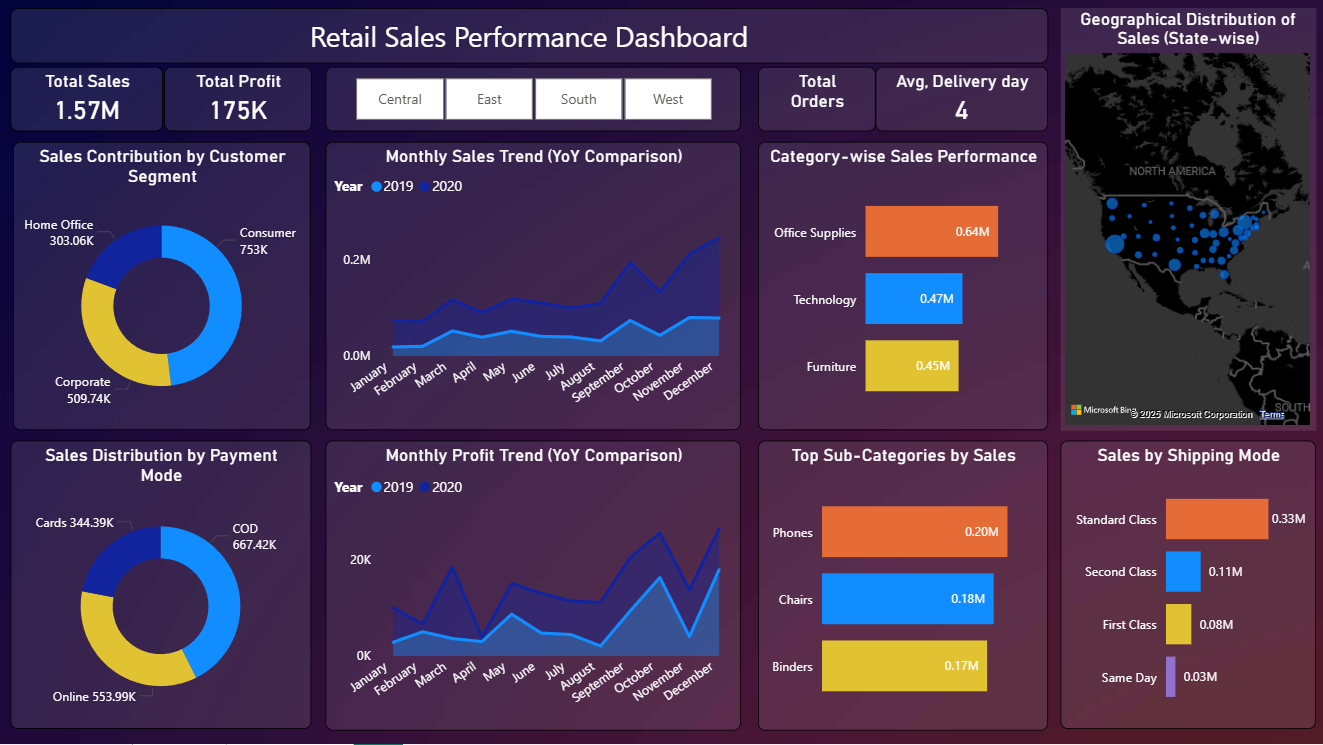

The dashboard page shown, as its layout file describes it:
{"tool":"powerbi","page":{"name":"Sales Performance Overview","canvas":[1280,720],"ordinal":0},"visuals":[{"type":"barChart","title":"Category-wise Sales Performance","fields":{"Category":["SuperStore_Sales_Dataset.Category"],"Y":["Sum(SuperStore_Sales_Dataset.Sales)"]},"box":[733.5,138.7,279.9,278.7],"z":0},{"type":"barChart","title":"Top Sub-Categories by Sales","fields":{"Y":["Sum(SuperStore_Sales_Dataset.Sales)"],"Category":["SuperStore_Sales_Dataset.Sub-Category"]},"box":[733.5,427.1,279.9,279.9],"z":1000},{"type":"barChart","title":"Sales by Shipping Mode","fields":{"Y":["Sum(SuperStore_Sales_Dataset.Sales)"],"Category":["SuperStore_Sales_Dataset.Ship Mode"]},"box":[1025.5,427.1,246.1,278.7],"z":2000},{"type":"stackedAreaChart","title":"Monthly Sales Trend (YoY Comparison)","fields":{"Category":["SuperStore_Sales_Dataset.Order Date.Variation.Date Hierarchy.Month","SuperStore_Sales_Dataset.Order Date.Variation.Date Hierarchy.Day"],"Y":["Sum(SuperStore_Sales_Dataset.Sales)"],"Series":["SuperStore_Sales_Dataset.Order Date.Variation.Date Hierarchy.Year"]},"box":[316.1,138.7,400.5,278.7],"z":3000},{"type":"stackedAreaChart","title":"Monthly Profit Trend (YoY Comparison)","fields":{"Category":["SuperStore_Sales_Dataset.Order Date.Variation.Date Hierarchy.Month","SuperStore_Sales_Dataset.Order Date.Variation.Date Hierarchy.Day"],"Series":["SuperStore_Sales_Dataset.Order Date.Variation.Date Hierarchy.Year"],"Y":["Sum(SuperStore_Sales_Dataset.Profit)"]},"box":[316.1,427.1,400.5,279.9],"z":4000},{"type":"map","title":"Geographical Distribution of Sales (State-wise)","fields":{"Category":["SuperStore_Sales_Dataset.State"],"Size":["Sum(SuperStore_Sales_Dataset.Sales)"]},"box":[1025.5,9.7,246.1,407.8],"z":5000},{"type":"donutChart","title":"Sales Contribution by Customer Segment","fields":{"Category":["SuperStore_Sales_Dataset.Segment"],"Y":["Sum(SuperStore_Sales_Dataset.Sales)"]},"box":[14.5,138.7,287.1,278.7],"z":6000},{"type":"donutChart","title":"Sales Distribution by Payment Mode","fields":{"Y":["Sum(SuperStore_Sales_Dataset.Sales)"],"Category":["SuperStore_Sales_Dataset.Payment Mode"]},"box":[12.5,427.5,290,278.8],"z":7000},{"type":"slicer","fields":{"Values":["SuperStore_Sales_Dataset.Region"]},"box":[316.1,66.4,400.5,62.7],"z":8000},{"type":"textbox","box":[12.5,10,1001.2,53.8],"z":9000},{"type":"card","title":"Total Sales","fields":{"Values":["Sum(SuperStore_Sales_Dataset.Sales)"]},"box":[12.5,66.2,147.5,62.5],"z":10000},{"type":"card","title":"Total Profit","fields":{"Values":["Sum(SuperStore_Sales_Dataset.Profit)"]},"box":[160,66.2,142.5,62.5],"z":11000},{"type":"card","title":"Total Orders","fields":{"Values":["Sum(SuperStore_Sales_Dataset.Quantity)"]},"box":[733.5,66.4,113.4,62.7],"z":12000},{"type":"card","title":"Avg, Delivery day","fields":{"Values":["Avg(SuperStore_Sales_Dataset.AvgDelivery)"]},"box":[847.5,66.2,166.2,62.5],"z":13000}]}

Visuals, with their boxes in screenshot pixels (x1, y1, x2, y2), scaled from the page's 1280x720 canvas onto the 1323x745 screenshot:
"Category-wise Sales Performance" barChart: [758, 144, 1047, 432]
"Top Sub-Categories by Sales" barChart: [758, 442, 1047, 732]
"Sales by Shipping Mode" barChart: [1060, 442, 1314, 730]
"Monthly Sales Trend (YoY Comparison)" stackedAreaChart: [327, 144, 741, 432]
"Monthly Profit Trend (YoY Comparison)" stackedAreaChart: [327, 442, 741, 732]
"Geographical Distribution of Sales (State-wise)" map: [1060, 10, 1314, 432]
"Sales Contribution by Customer Segment" donutChart: [15, 144, 312, 432]
"Sales Distribution by Payment Mode" donutChart: [13, 442, 313, 731]
slicer - SuperStore_Sales_Dataset.Region: [327, 69, 741, 134]
textbox: [13, 10, 1048, 66]
"Total Sales" card: [13, 68, 165, 133]
"Total Profit" card: [165, 68, 313, 133]
"Total Orders" card: [758, 69, 875, 134]
"Avg, Delivery day" card: [876, 68, 1048, 133]
